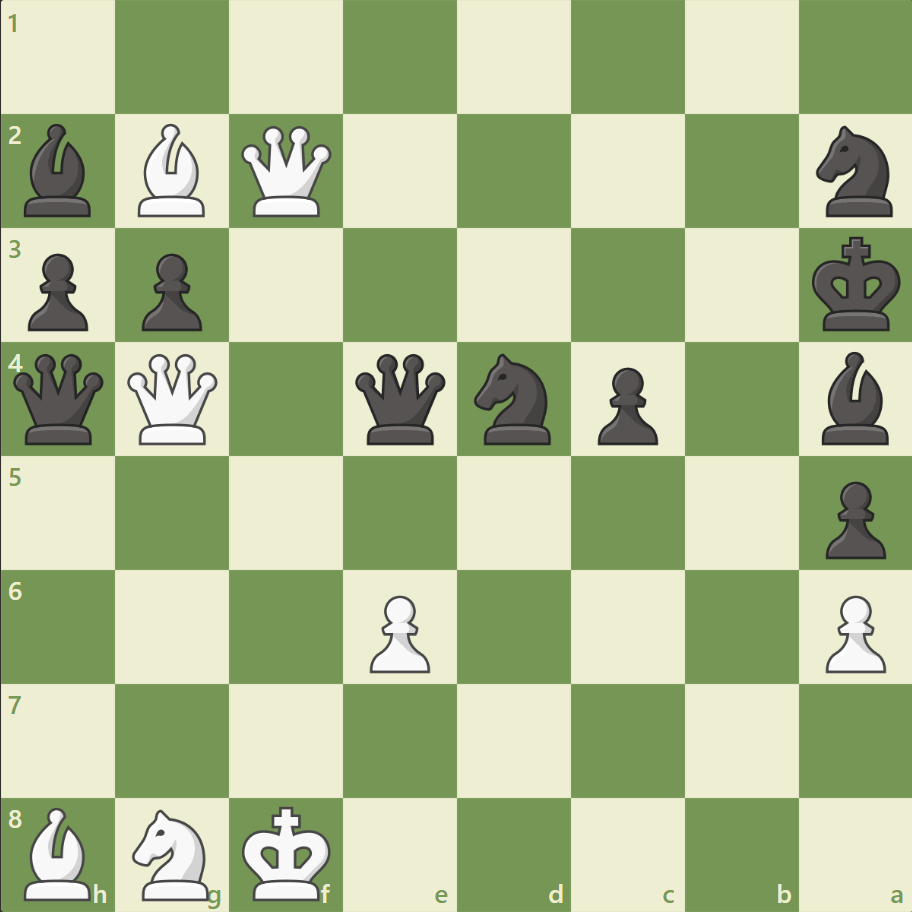B: (17, 801, 101, 904), (131, 120, 215, 222)
K: (238, 798, 338, 906)
N: (124, 802, 222, 904)
P: (815, 586, 889, 677), (361, 586, 435, 677)
Q: (124, 349, 223, 449), (237, 122, 336, 222)
b: (812, 347, 896, 449), (17, 120, 101, 222)
k: (806, 231, 906, 339)
n: (465, 348, 562, 450), (806, 121, 903, 223)
p: (133, 246, 208, 337), (20, 246, 95, 337), (815, 473, 889, 564), (588, 359, 662, 450)
q: (351, 349, 450, 449), (10, 349, 109, 449)
